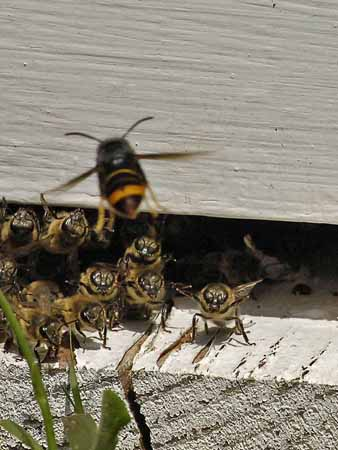bee: (121, 234, 179, 320), (192, 282, 249, 339), (24, 300, 73, 364), (45, 200, 94, 251), (69, 266, 123, 306), (4, 205, 43, 256)
hornet: (74, 132, 176, 223)
